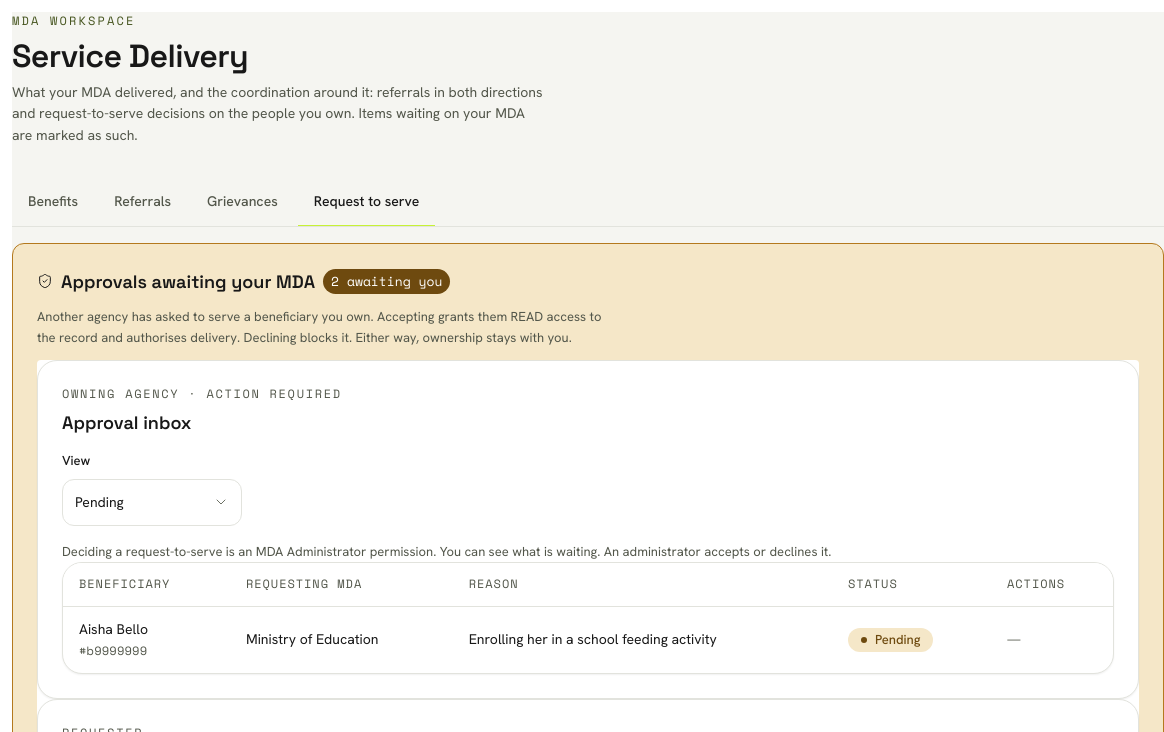
it: MDA console — Service Delivery › defaults the inbox to Pending and can show Declined and full history
Expected: the text "Aisha Bello" is shown, [79,620,148,638]
Expected: the text "Musa Sani" is not shown
Select "Declined" in the dropdown labelled "View" at point(152, 502), box [62,479,242,526]
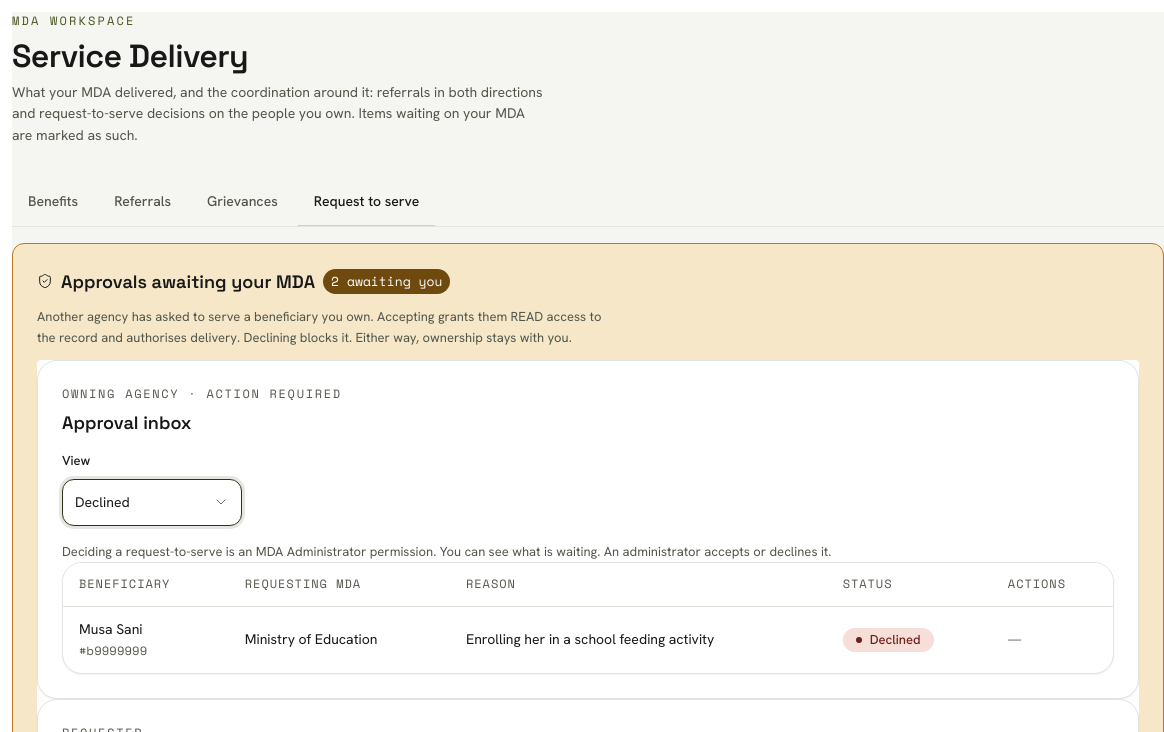
Result: the text "Musa Sani" is shown at [79,620,142,638]
Result: the text "Aisha Bello" is gone
Select "History: all" in the dropdown labelled "View" at point(152, 502), box [62,479,242,526]
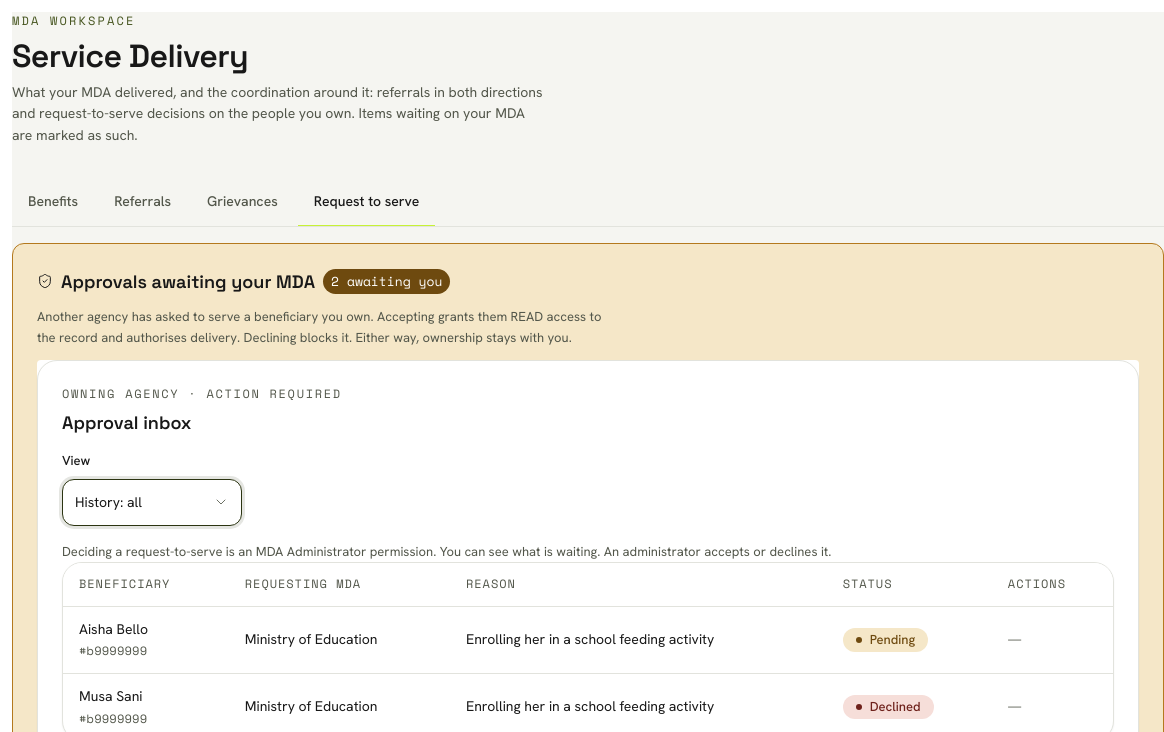
Result: the text "Musa Sani" is shown at [79,687,142,705]
Result: the text "Aisha Bello" is shown at [79,620,148,638]
